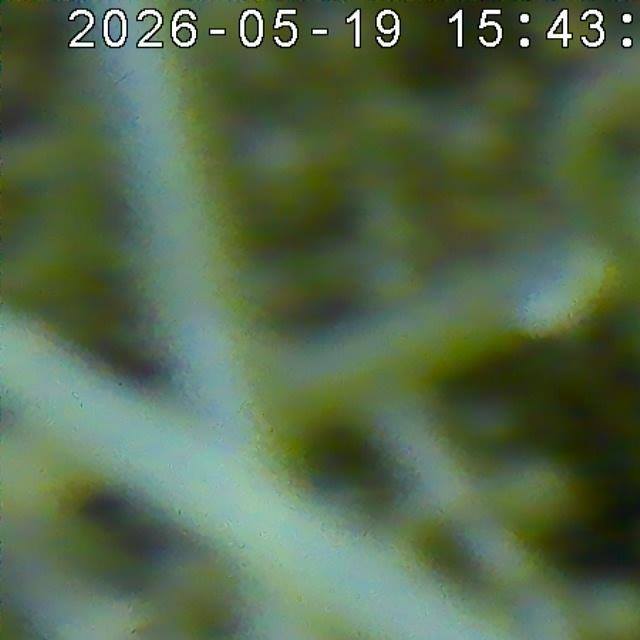SeaGrape: (231, 111, 335, 215), (580, 585, 640, 640)
